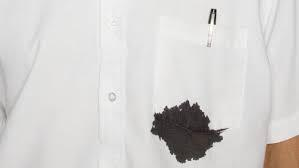ink: (154, 103, 224, 163)
